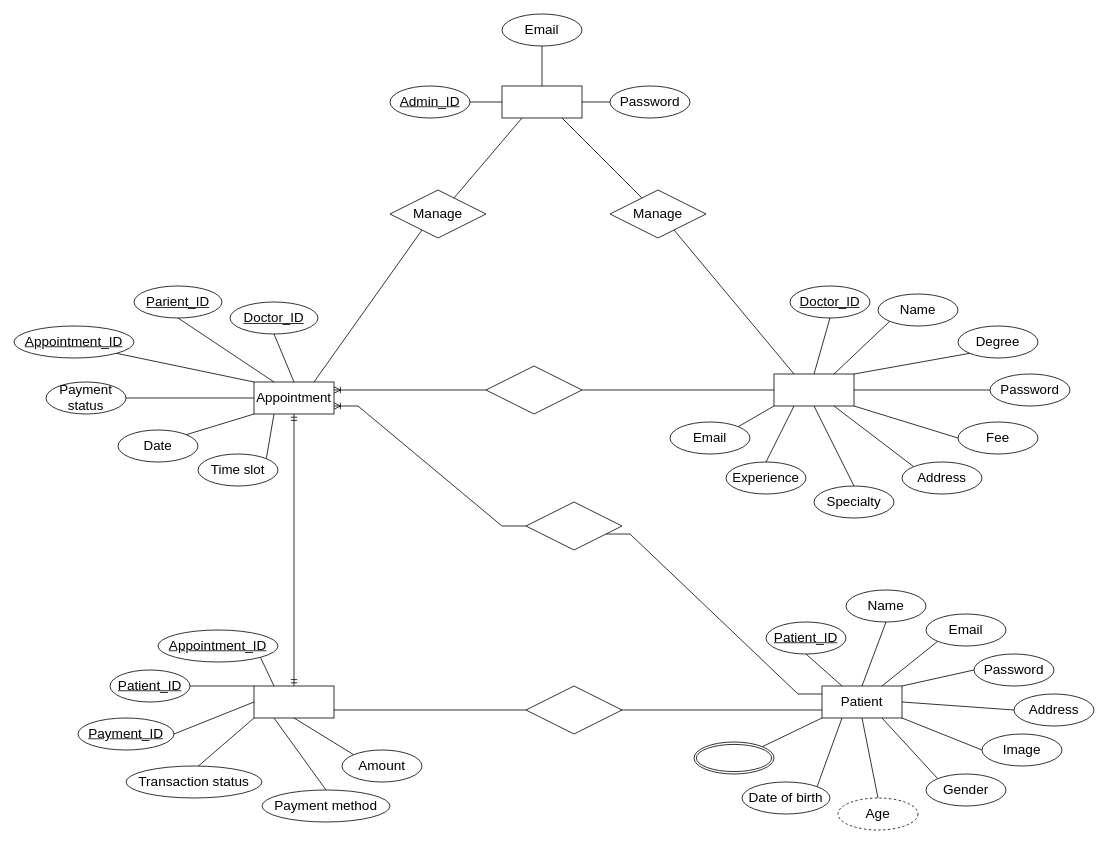
This 1108x844 diagram has some shape labels left out. The shapes that lost their labels are listed below. From the top down, each one's box as (x1, y1, x2, y2) in pixels, then its label:
(501, 85, 582, 118): Admin
(485, 365, 582, 414): Have
(773, 373, 854, 406): Doctor
(525, 501, 622, 550): Book
(253, 685, 334, 718): Payment
(525, 685, 622, 734): Make
(693, 741, 774, 774): Phone no.
